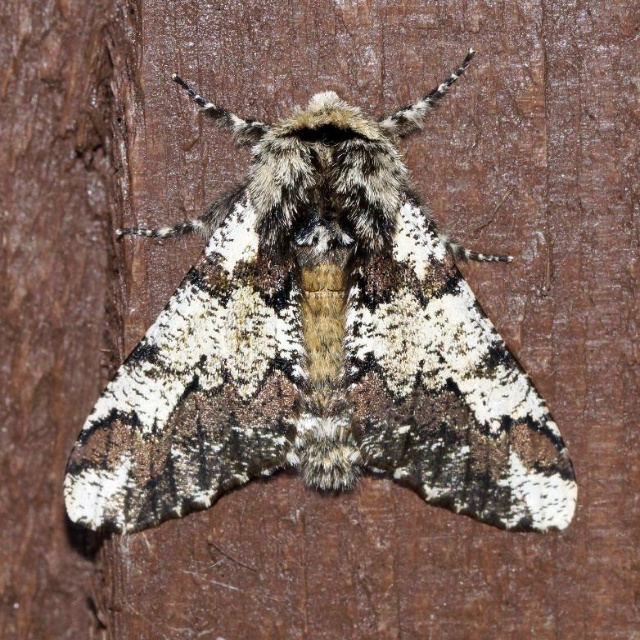Moths and butterflies: (60, 43, 585, 536)
